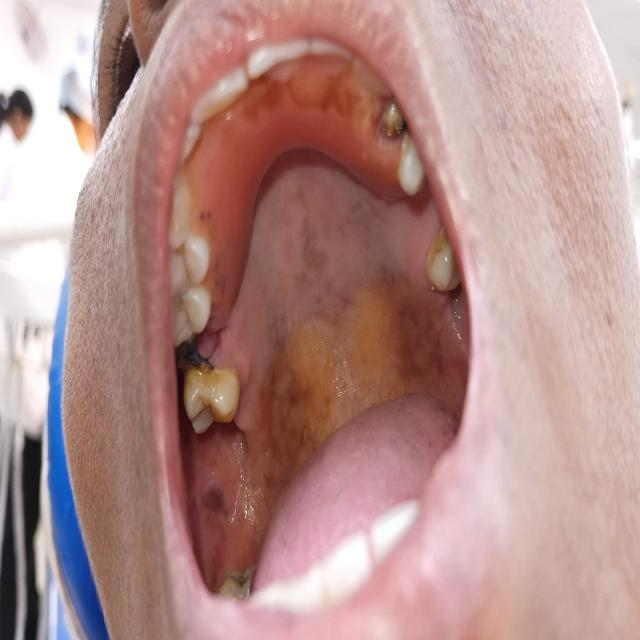processing_area: (180, 71, 476, 596)
